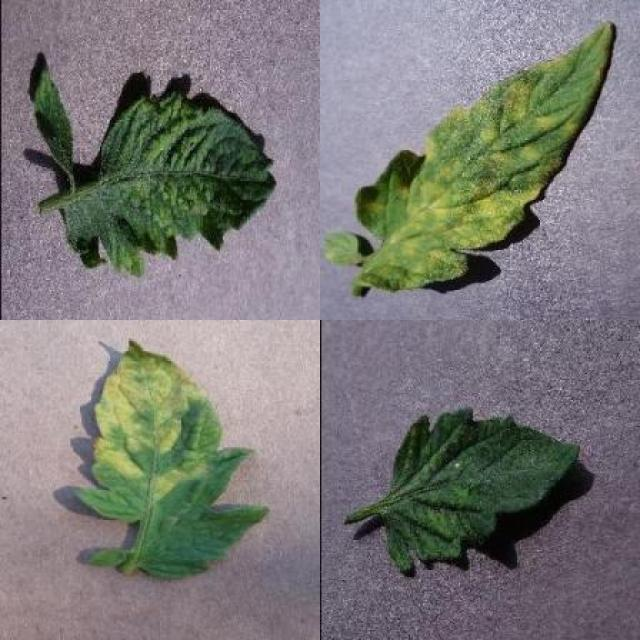Leaf Mold: (325, 18, 614, 293), (75, 336, 271, 581)
Mosaic Virus: (33, 60, 280, 277), (382, 403, 582, 580)
